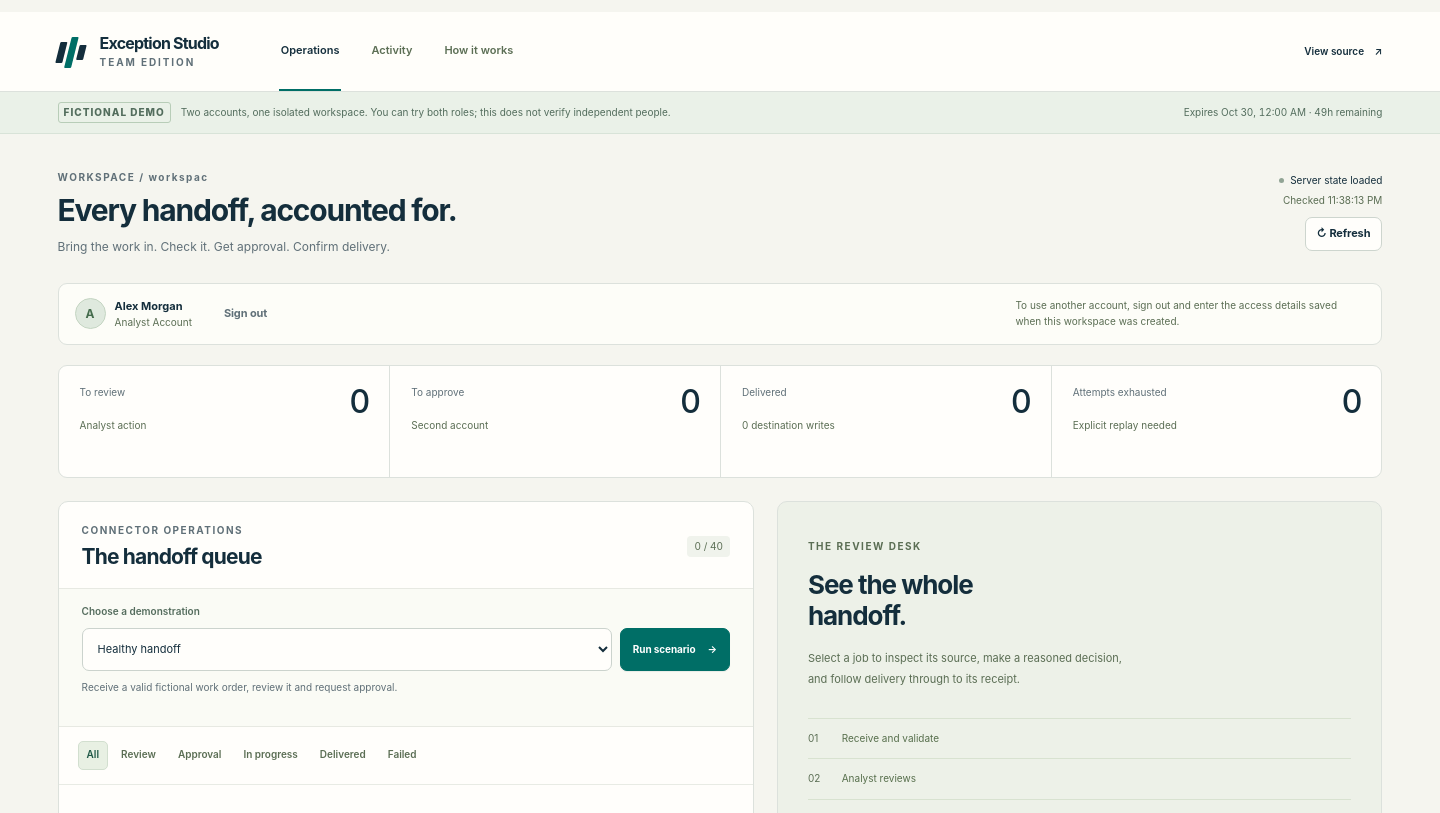
Test: Team edition account boundary › requires account-state verification after an uncertain sign out
Step 1. Click the button "Sign out" → [246, 314], box top-left (212, 297), bottom-right (279, 331)
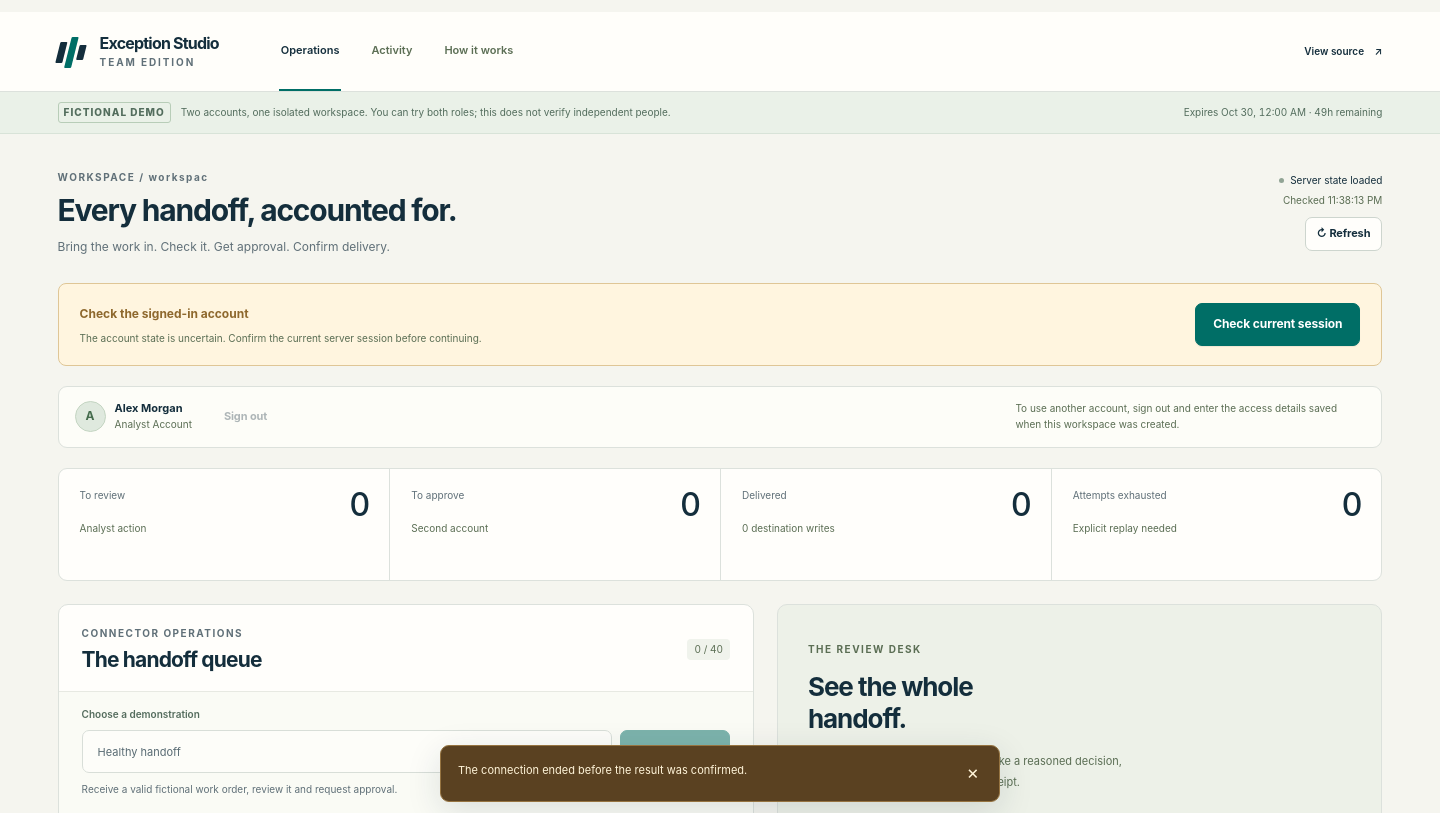
Result: the text "Check the signed-in account" is shown at top-left (80, 306), bottom-right (249, 321)
Result: the button "Run scenario →" is disabled at top-left (620, 730), bottom-right (730, 773)
Step 2. Click the button "Check current session" → [1278, 324], box top-left (1195, 303), bottom-right (1360, 346)
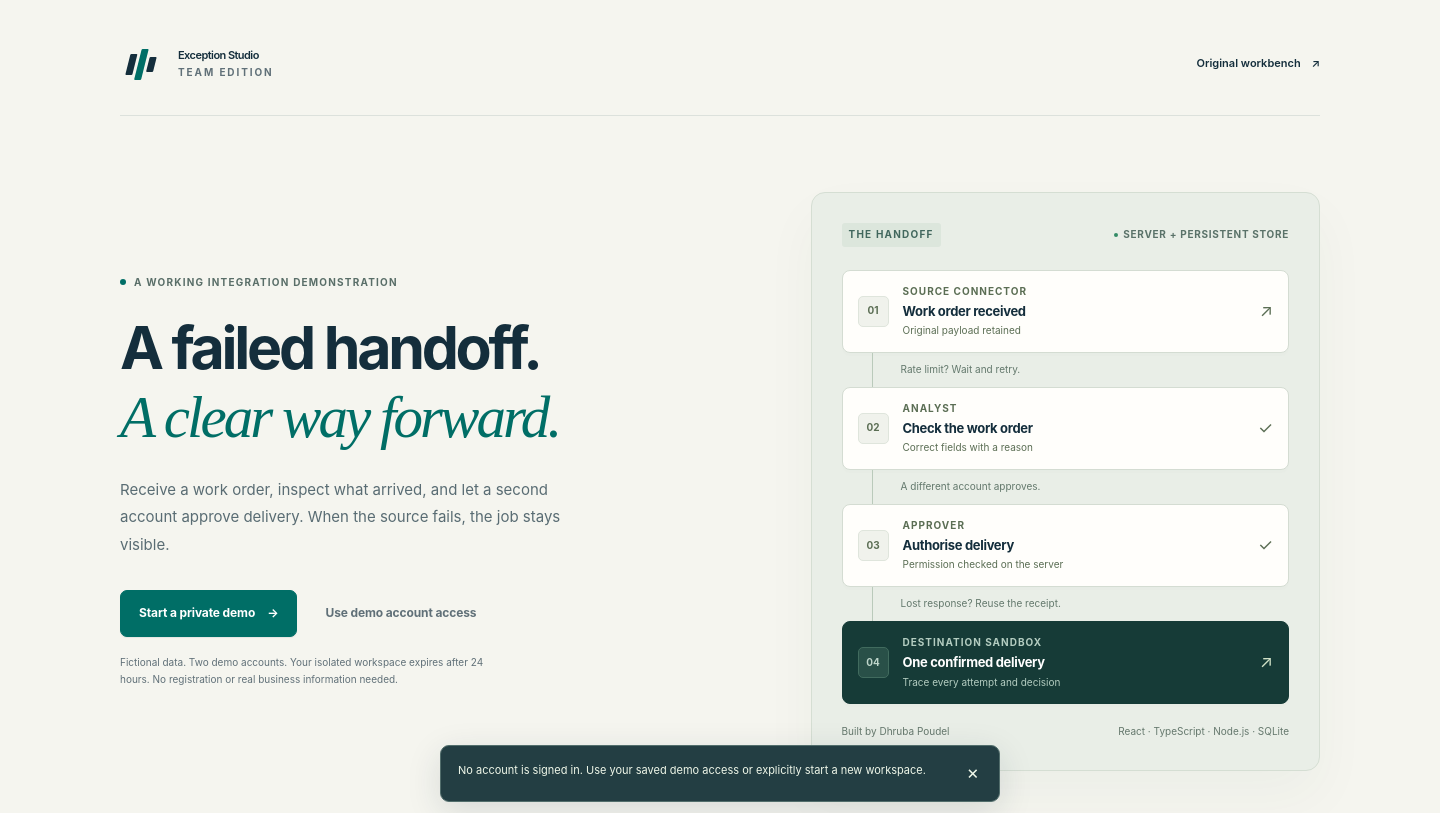
Result: the button "Start a private demo →" is shown at top-left (120, 590), bottom-right (298, 637)
